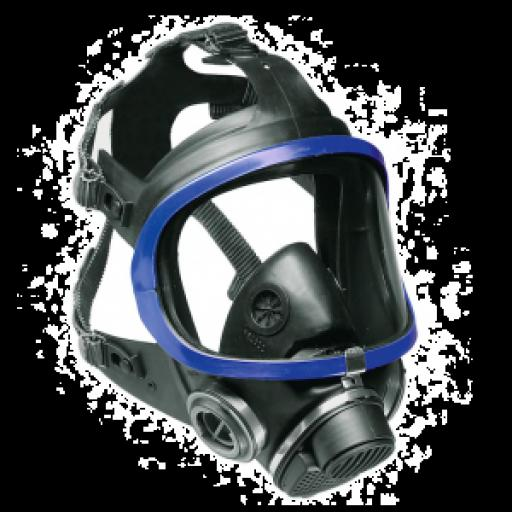mask: (55, 113, 429, 502)
